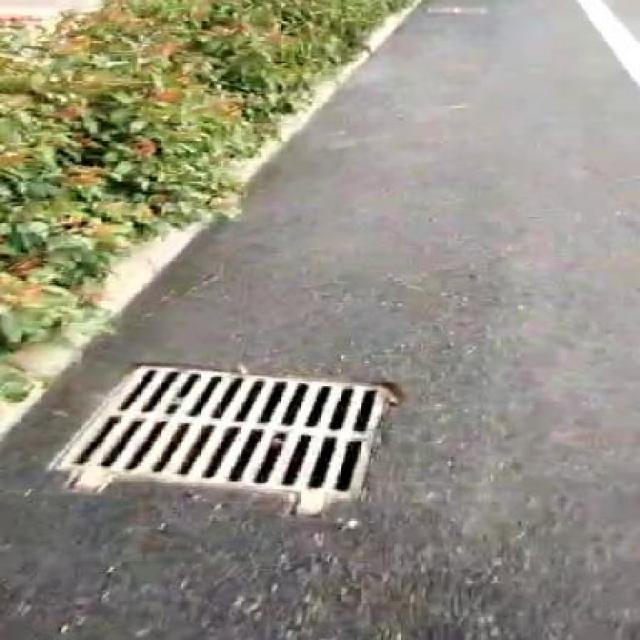Manhole: (39, 358, 418, 518)
